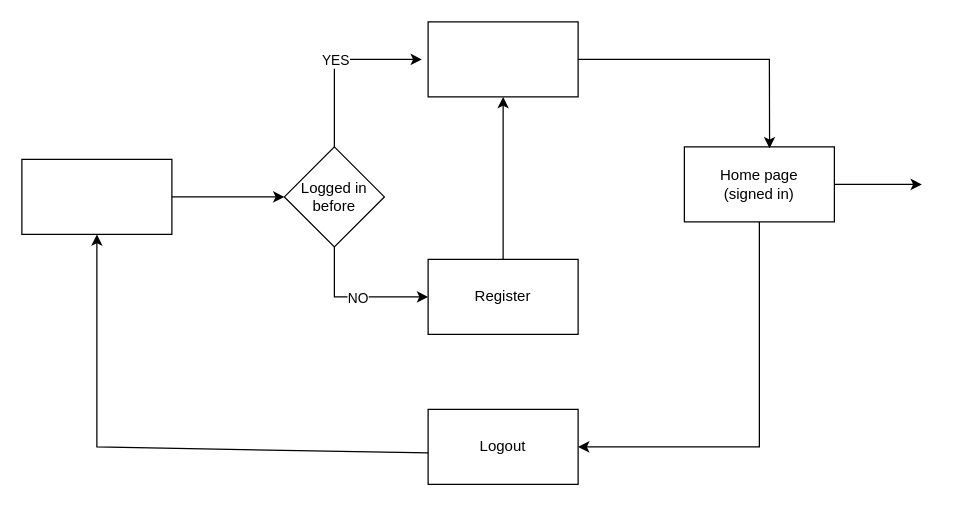
This 954x506 diagram has some shape labels left out. Here are the shapes that lost their labels. From the top down, the centre of each, then its label:
At point 502,59: "Login".
At point 96,196: "Home page (Not signed in)".
